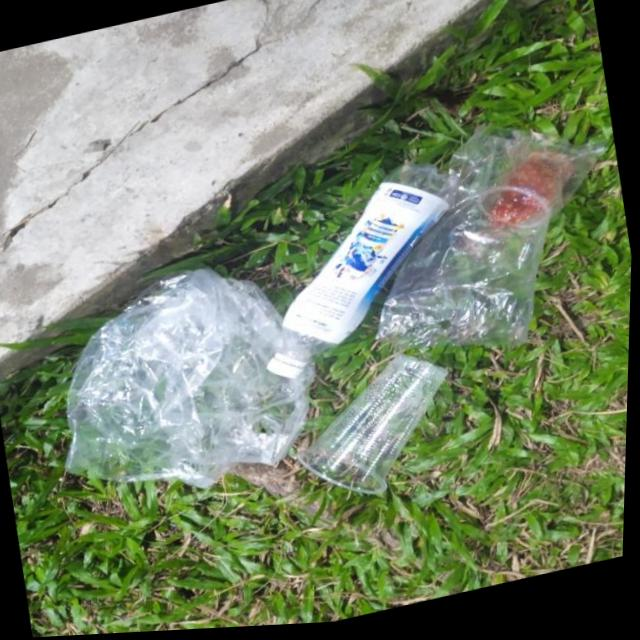leaf: (237, 157, 477, 383), (285, 333, 505, 516)
metal: (10, 231, 329, 521), (347, 108, 628, 372)
